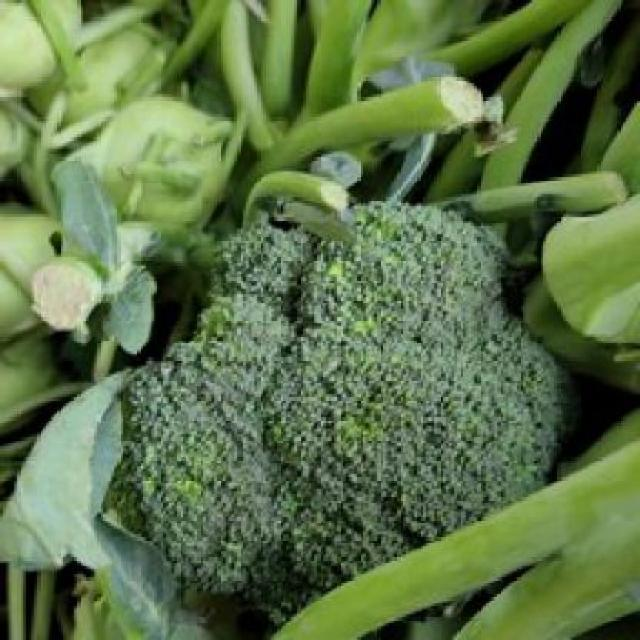broccoli: (80, 152, 609, 634)
